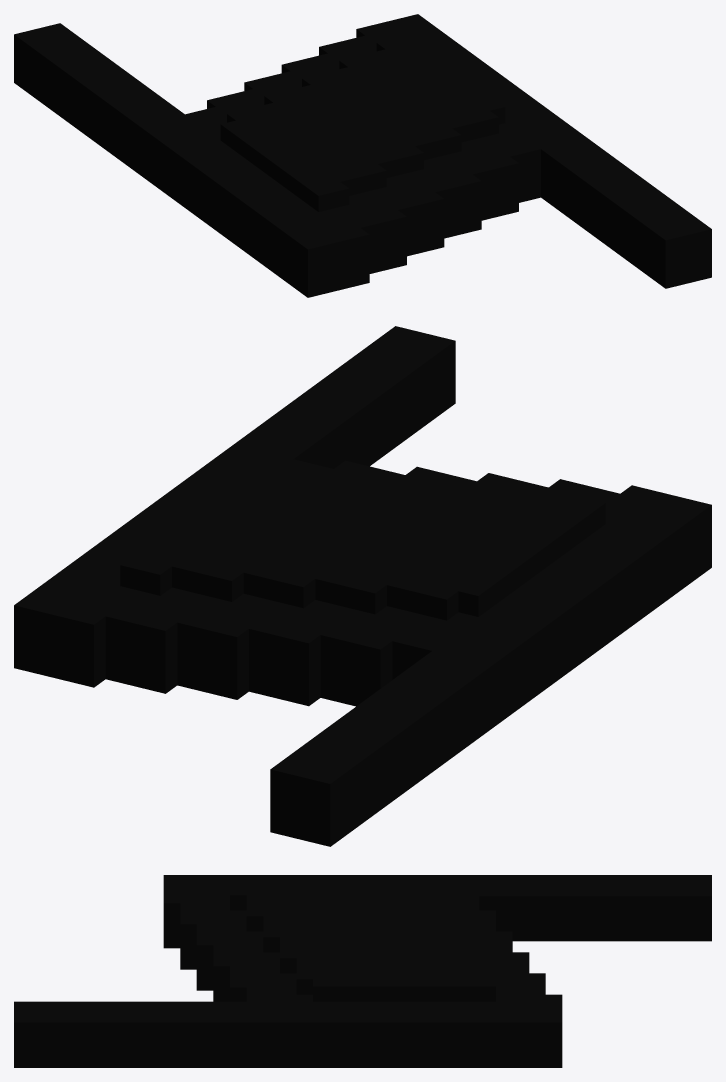
The model's file is ChainChord.fbx.
3 views of the same model, one above another, from view 1: azimuth 30°, elevation 25°; view 2: azimuth 150°, elevation 25°; view 3: azimuth 270°, elevation 25° (orthographic). The views are drawn at different scales.
Visible parts, largest first — view 1: Untitled; view 2: Untitled; view 3: Untitled.
Part boxes in pixels (x1,y1,x2,y2): Untitled: (14, 14, 711, 297); Untitled: (14, 326, 711, 846); Untitled: (14, 875, 711, 1067).
Size of the model in its own units: 2.1 by 0.5 by 4.2.
